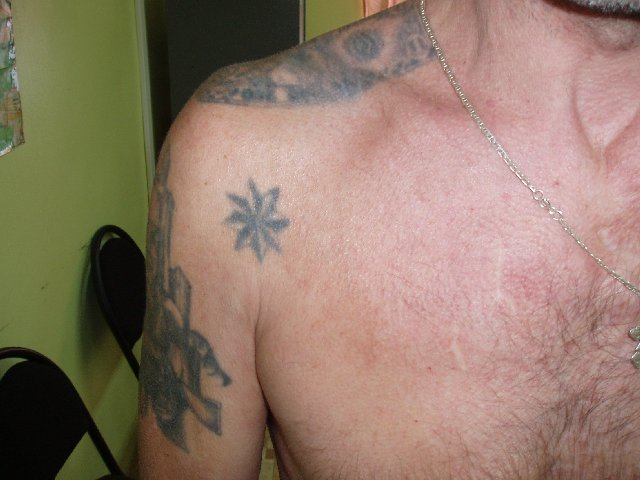tatu4_zvezda: (221, 178, 290, 262)
